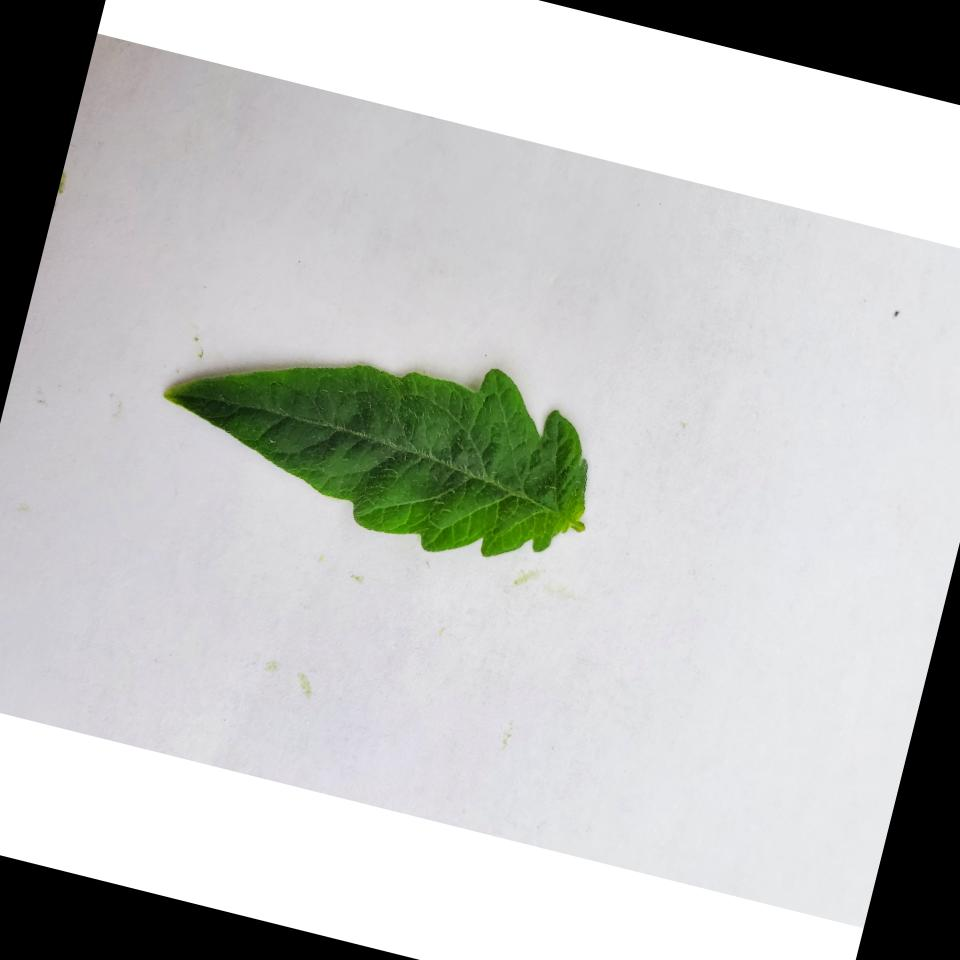tomato_leaves: (141, 283, 622, 585)
